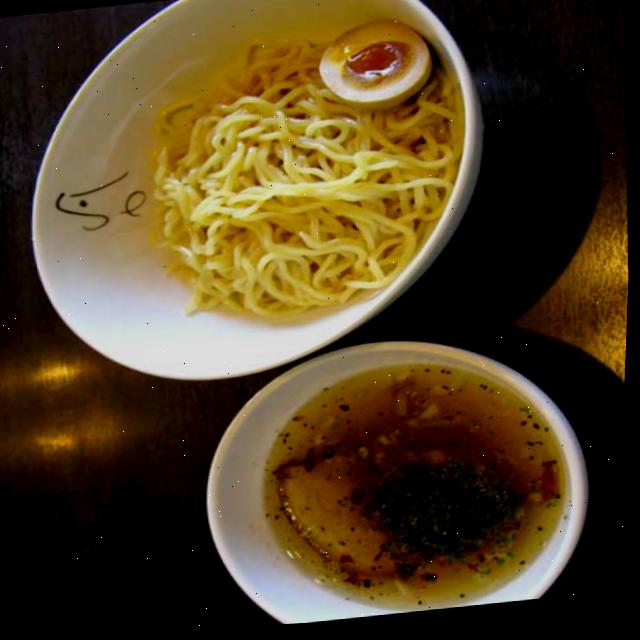面条主食: (0, 0, 617, 640)
